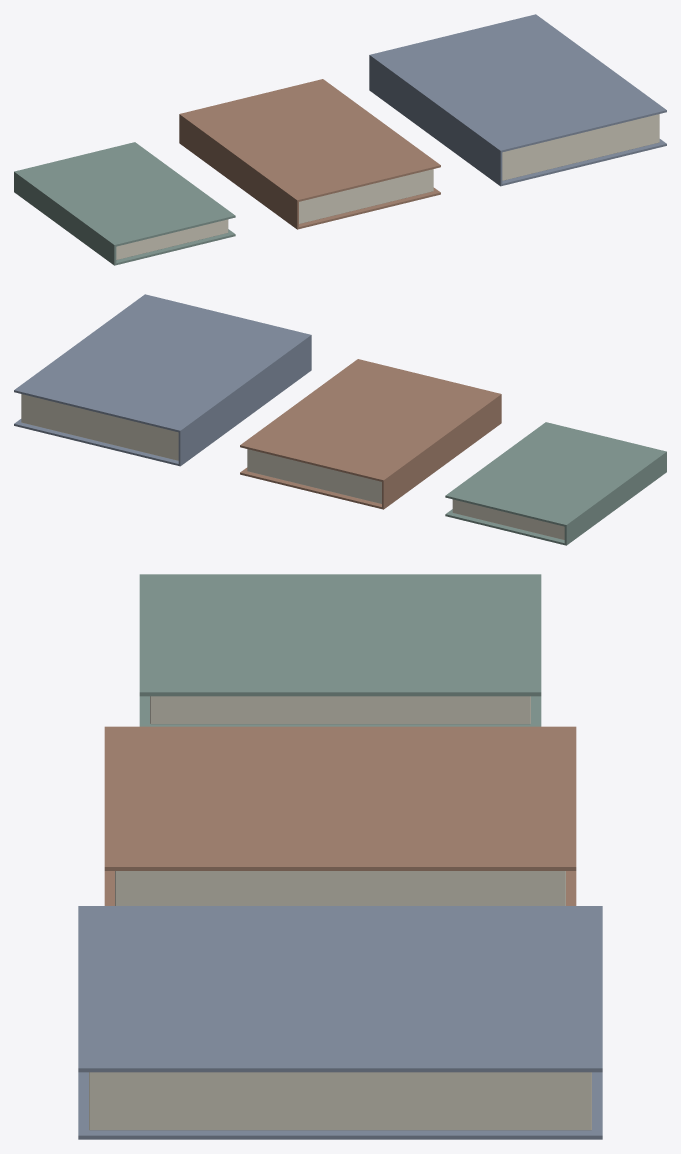
3 renders of one model, top to bottom at view 1: azimuth 30°, elevation 25°; view 2: azimuth 150°, elevation 25°; view 3: azimuth 270°, elevation 25°, orthographic. The views are drawn at different scales.
Parts seen in each view (by area): view 1: Reference continuous wrap cover and spine, Reading continuous wrap cover and spine, Pocket continuous wrap cover and spine, Reference inset closed page block, Reading inset closed page block, Pocket inset closed page block; view 2: Reference continuous wrap cover and spine, Reading continuous wrap cover and spine, Pocket continuous wrap cover and spine, Reference inset closed page block, Reading inset closed page block, Pocket inset closed page block; view 3: Reference continuous wrap cover and spine, Reading continuous wrap cover and spine, Pocket continuous wrap cover and spine, Reference inset closed page block, Reading inset closed page block, Pocket inset closed page block.
Part boxes in pixels (x1,y1,x2,y2): Reference continuous wrap cover and spine: [369, 14, 666, 186]; Reading continuous wrap cover and spine: [179, 79, 440, 229]; Pocket continuous wrap cover and spine: [14, 142, 235, 265]; Reference inset closed page block: [502, 114, 659, 180]; Reading inset closed page block: [299, 169, 433, 223]; Pocket inset closed page block: [116, 219, 228, 259]; Reference continuous wrap cover and spine: [14, 294, 311, 466]; Reading continuous wrap cover and spine: [240, 359, 501, 509]; Pocket continuous wrap cover and spine: [445, 422, 666, 545]; Reference inset closed page block: [21, 394, 178, 460]; Reading inset closed page block: [247, 449, 381, 503]; Pocket inset closed page block: [452, 499, 564, 539]; Reference continuous wrap cover and spine: [78, 906, 602, 1139]; Reading continuous wrap cover and spine: [104, 726, 576, 905]; Pocket continuous wrap cover and spine: [139, 574, 541, 726]; Reference inset closed page block: [89, 1072, 591, 1130]; Reading inset closed page block: [115, 871, 565, 905]; Pocket inset closed page block: [150, 696, 530, 724].
Bounding box in the file's own units: 0.71 × 0.045 × 0.3.
